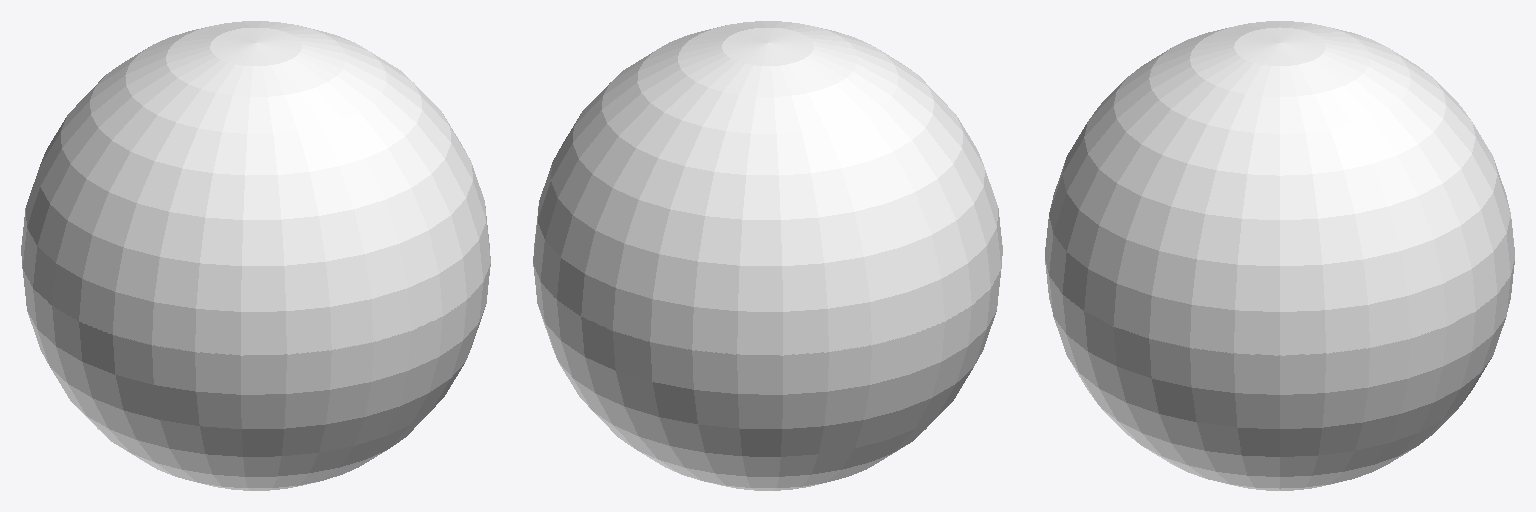
The model's file is skydome.obj.
3 views of the same model, side by side, from view 1: azimuth 30°, elevation 25°; view 2: azimuth 150°, elevation 25°; view 3: azimuth 270°, elevation 25° (orthographic).
Visible parts, largest first — view 1: Sphere01, Sphere01_copy2; view 2: Sphere01, Sphere01_copy2; view 3: Sphere01, Sphere01_copy2.
Part boxes in pixels (left/top/right/bottom): Sphere01: left=21, top=21, right=490, bottom=355; Sphere01_copy2: left=23, top=264, right=490, bottom=490; Sphere01: left=533, top=21, right=1002, bottom=355; Sphere01_copy2: left=533, top=264, right=1000, bottom=490; Sphere01: left=1045, top=21, right=1514, bottom=355; Sphere01_copy2: left=1045, top=261, right=1514, bottom=490.
Bounding box in the file's own units: 2610 × 2607 × 2610.